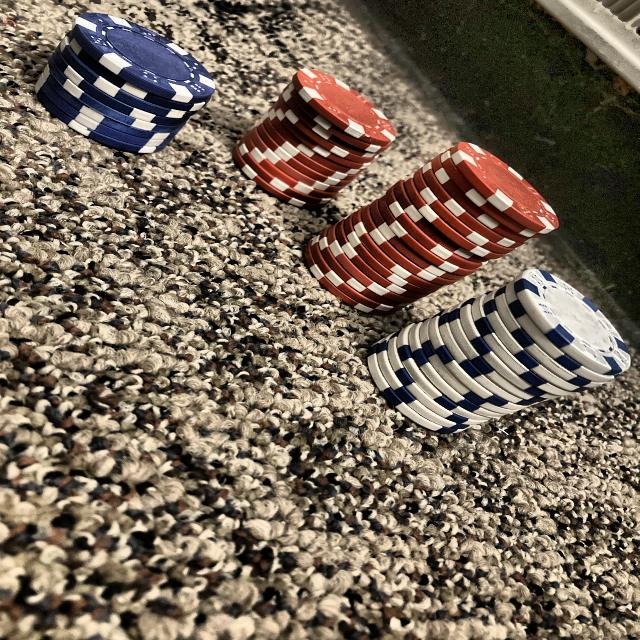Chip: (306, 120, 573, 326), (364, 235, 640, 421), (230, 41, 418, 225), (31, 0, 224, 161)
